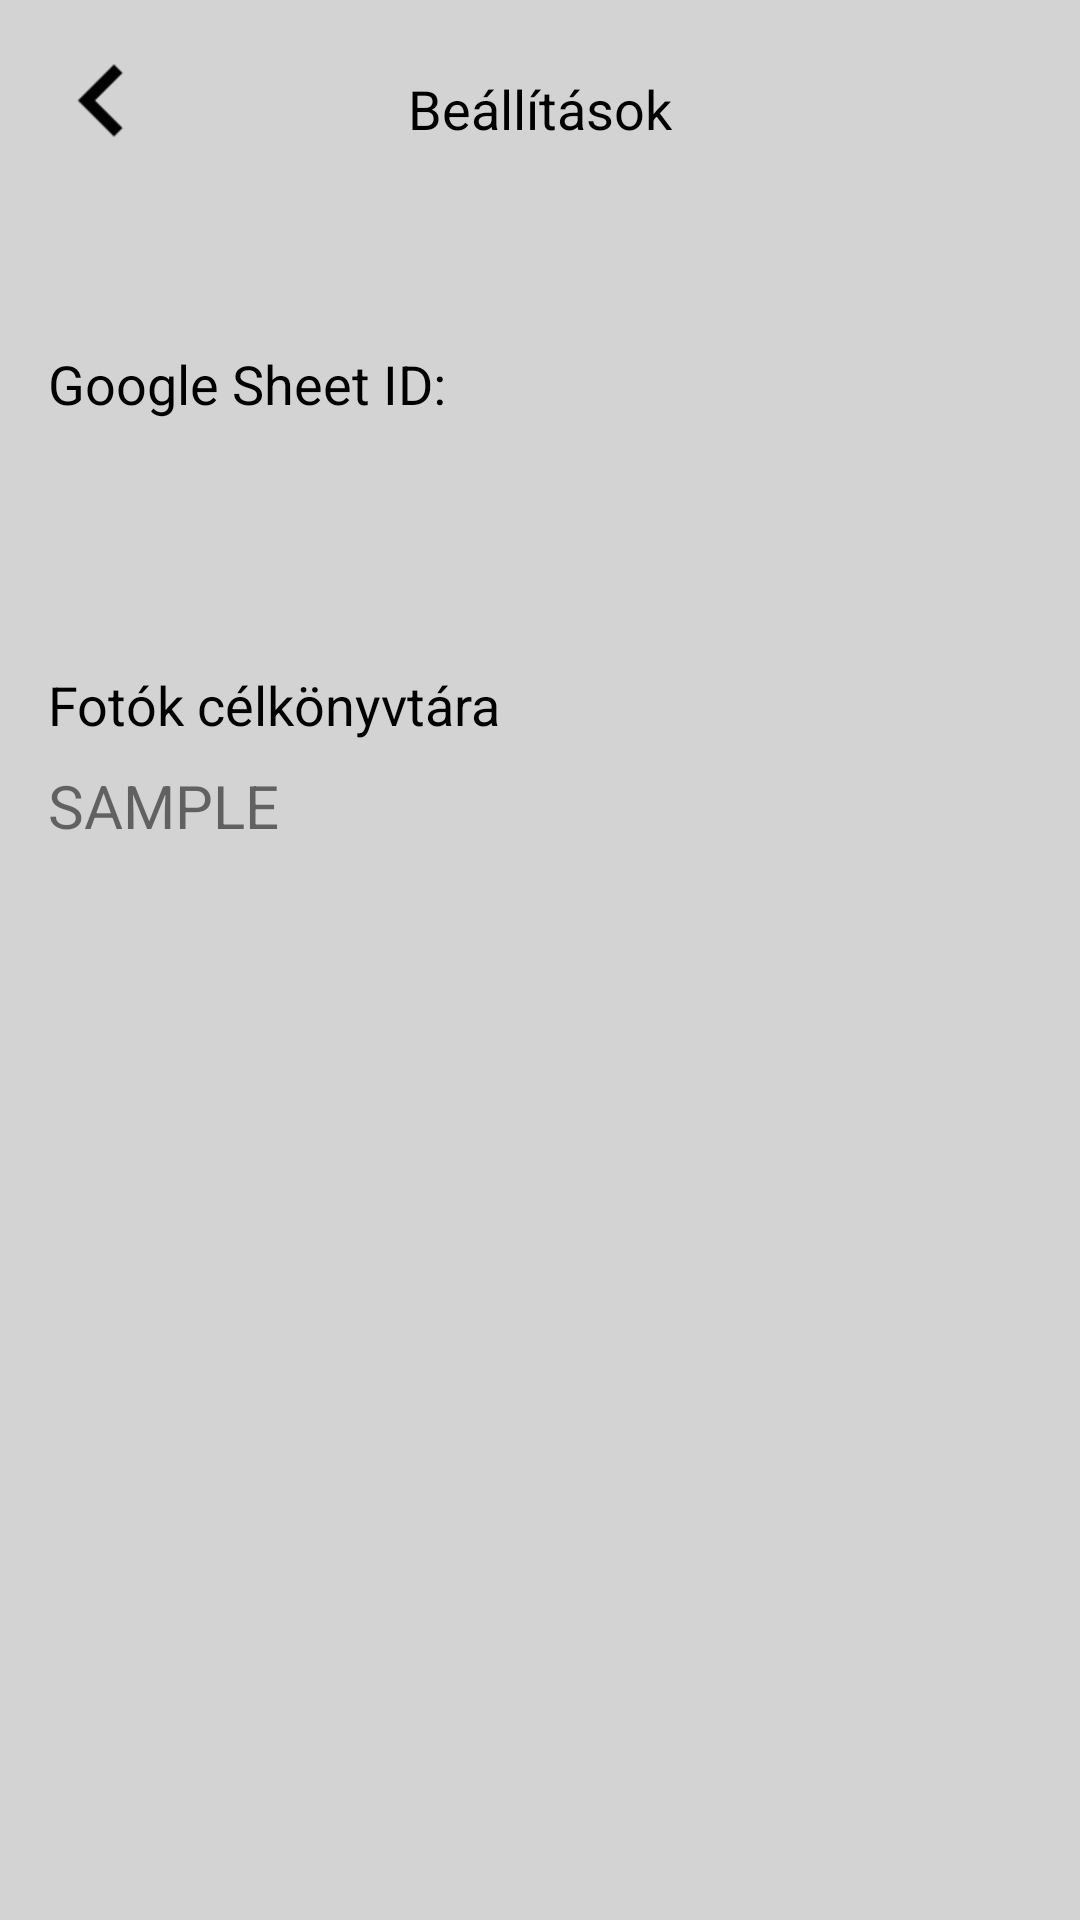

Icons on this 1080 × 1920 Android screen, each with its box as box(x1, y1, x2, y2):
back: box(78, 64, 123, 137)
